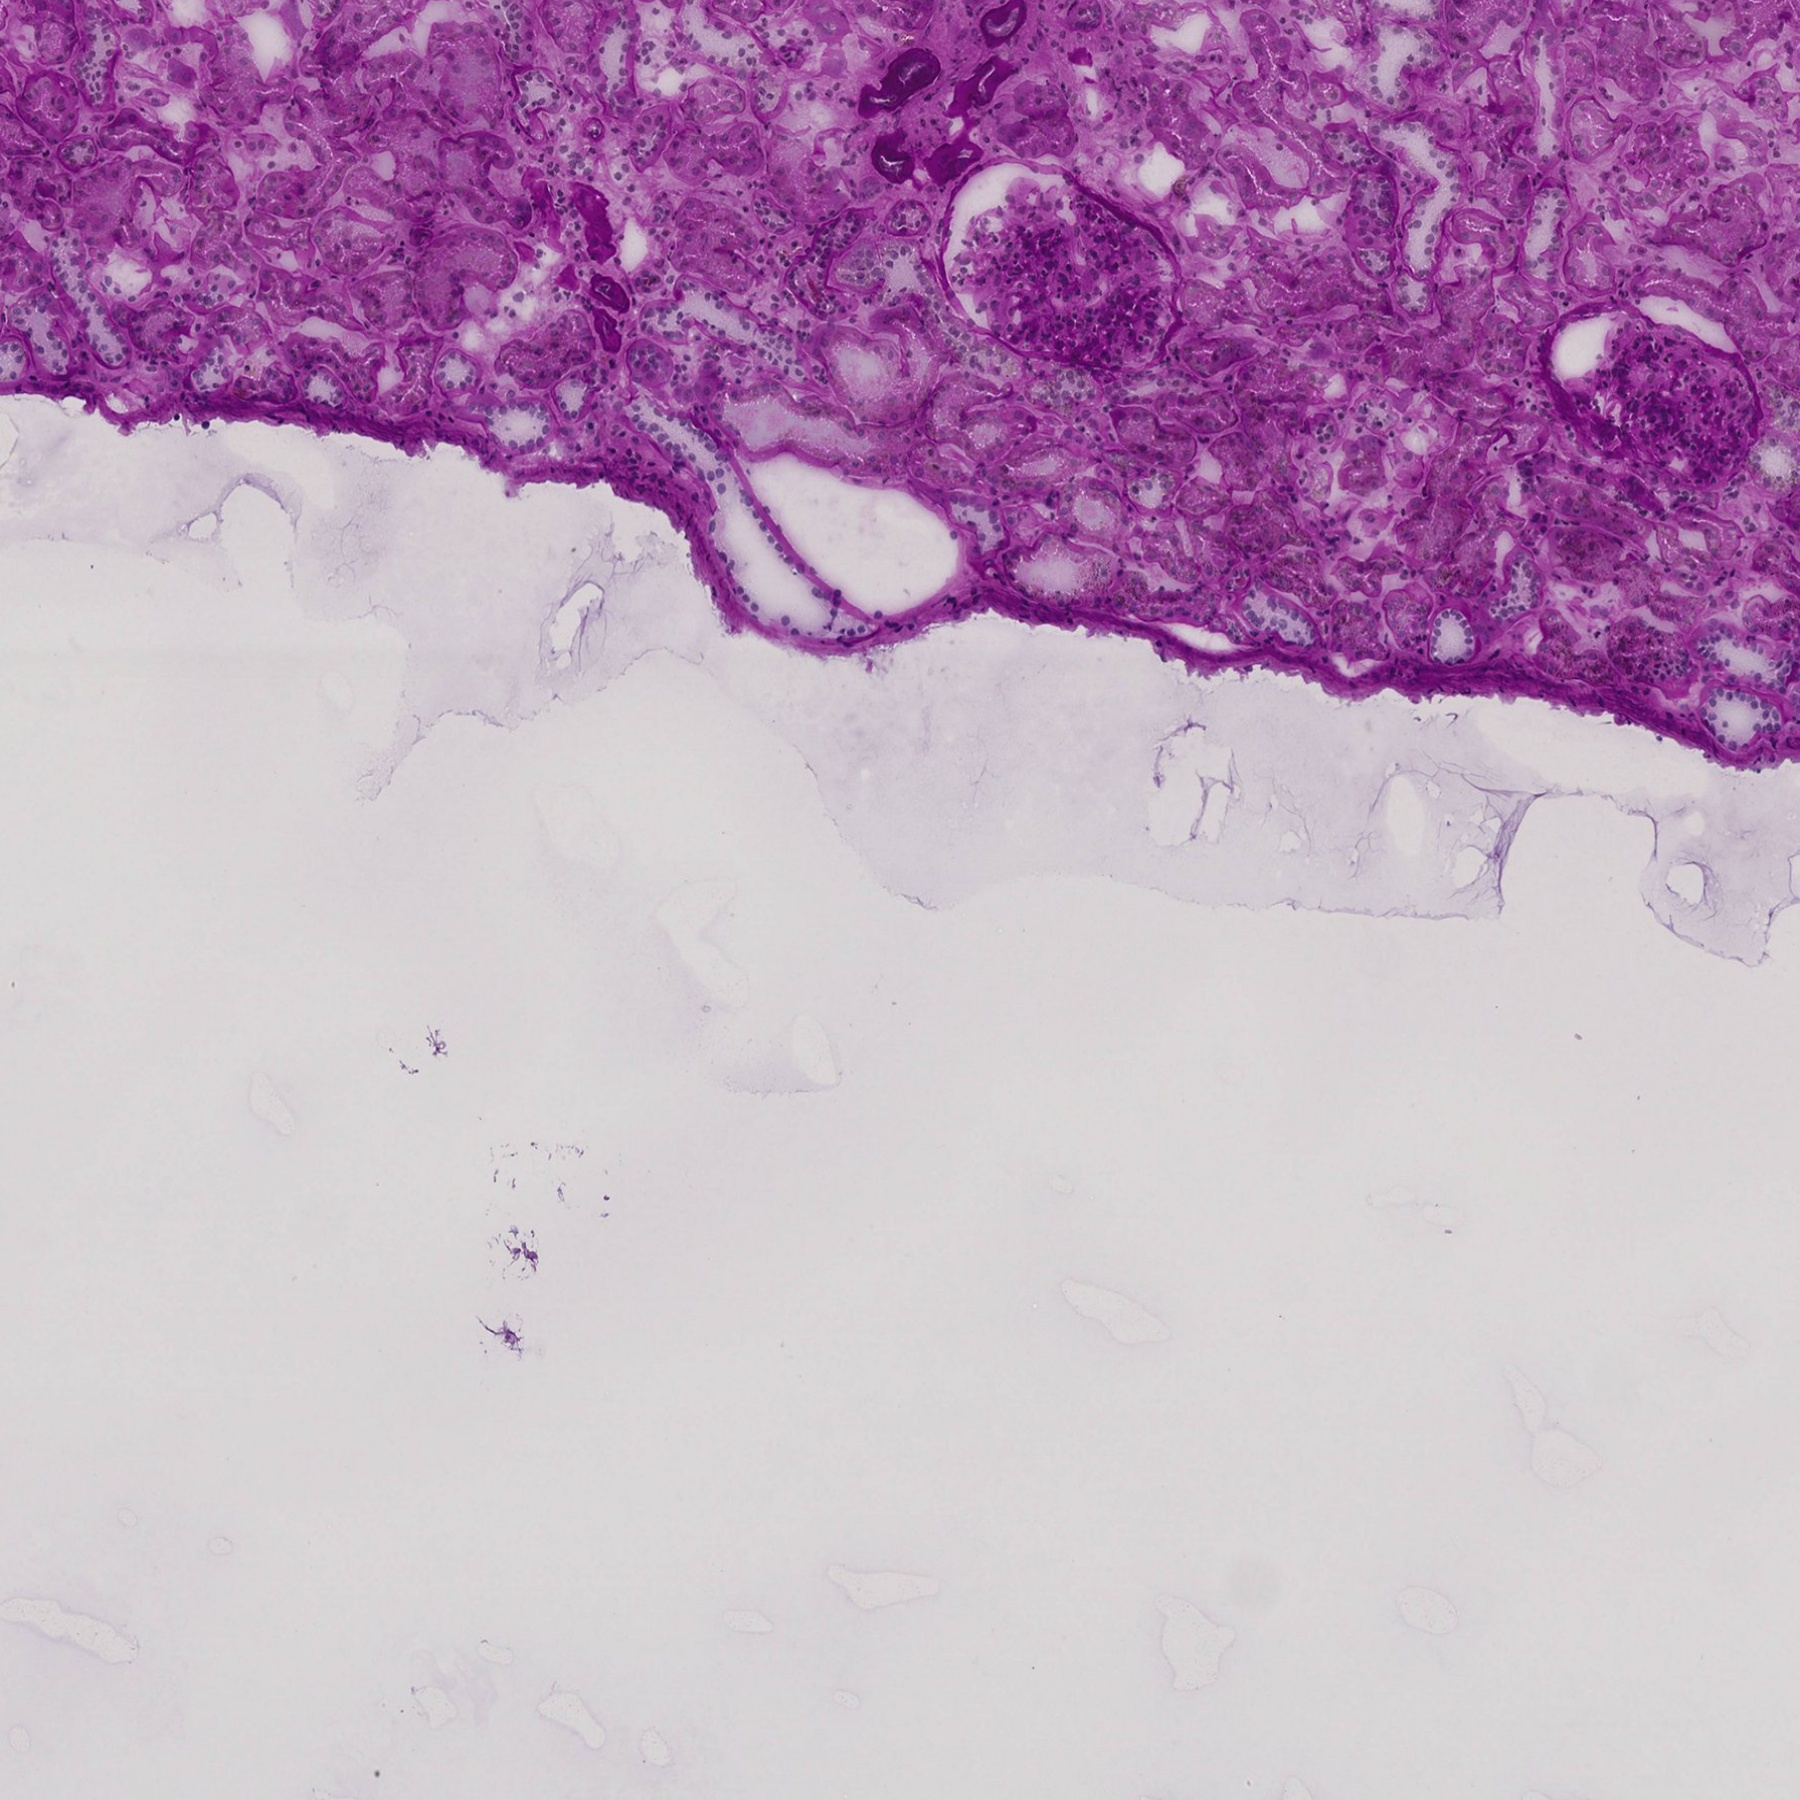Glomeruli: (940, 155, 1192, 382), (1536, 293, 1769, 498)
